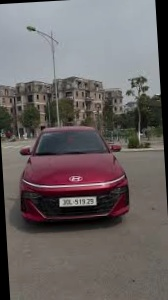Bien-so: (61, 192, 99, 204)
